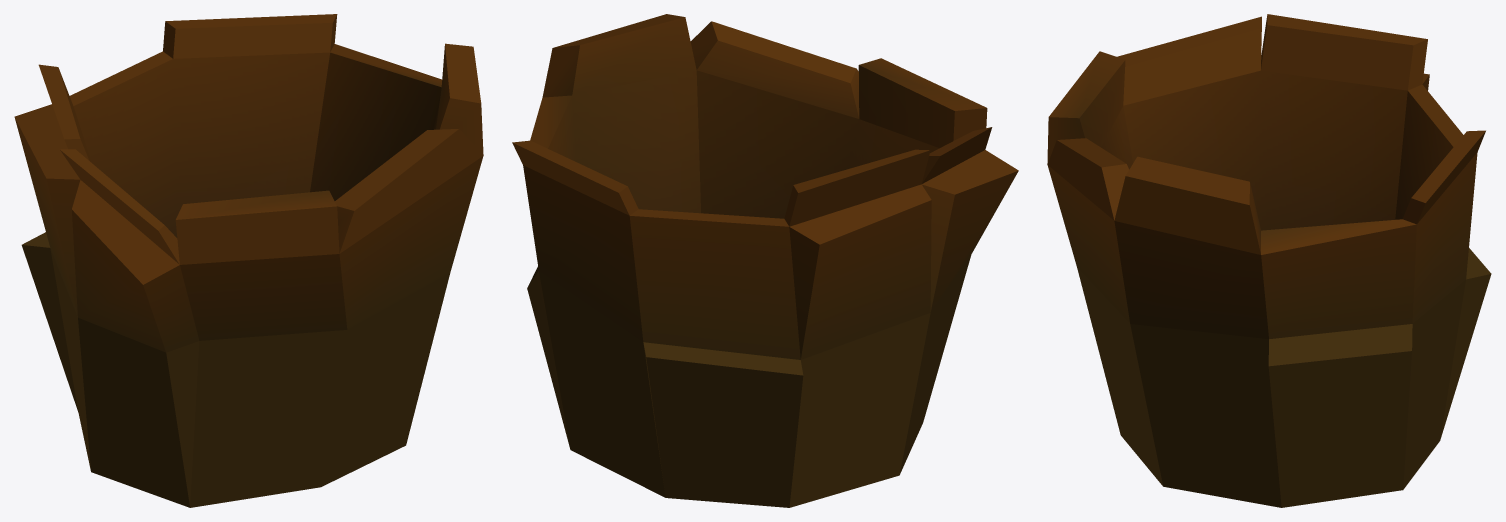
File: Bucket Wood.fbx
3 views of the same model, side by side, from view 1: azimuth 30°, elevation 25°; view 2: azimuth 150°, elevation 25°; view 3: azimuth 270°, elevation 25° (orthographic). The views are drawn at different scales.
Parts seen in each view (by area): view 1: Bucket_Wood; view 2: Bucket_Wood; view 3: Bucket_Wood.
Part boxes in pixels (left/top/right/bottom): Bucket_Wood: left=14, top=14, right=483, bottom=507; Bucket_Wood: left=512, top=14, right=1018, bottom=507; Bucket_Wood: left=1047, top=14, right=1491, bottom=507.
Size of the model in its own units: 63.44 by 51.7 by 59.65.
